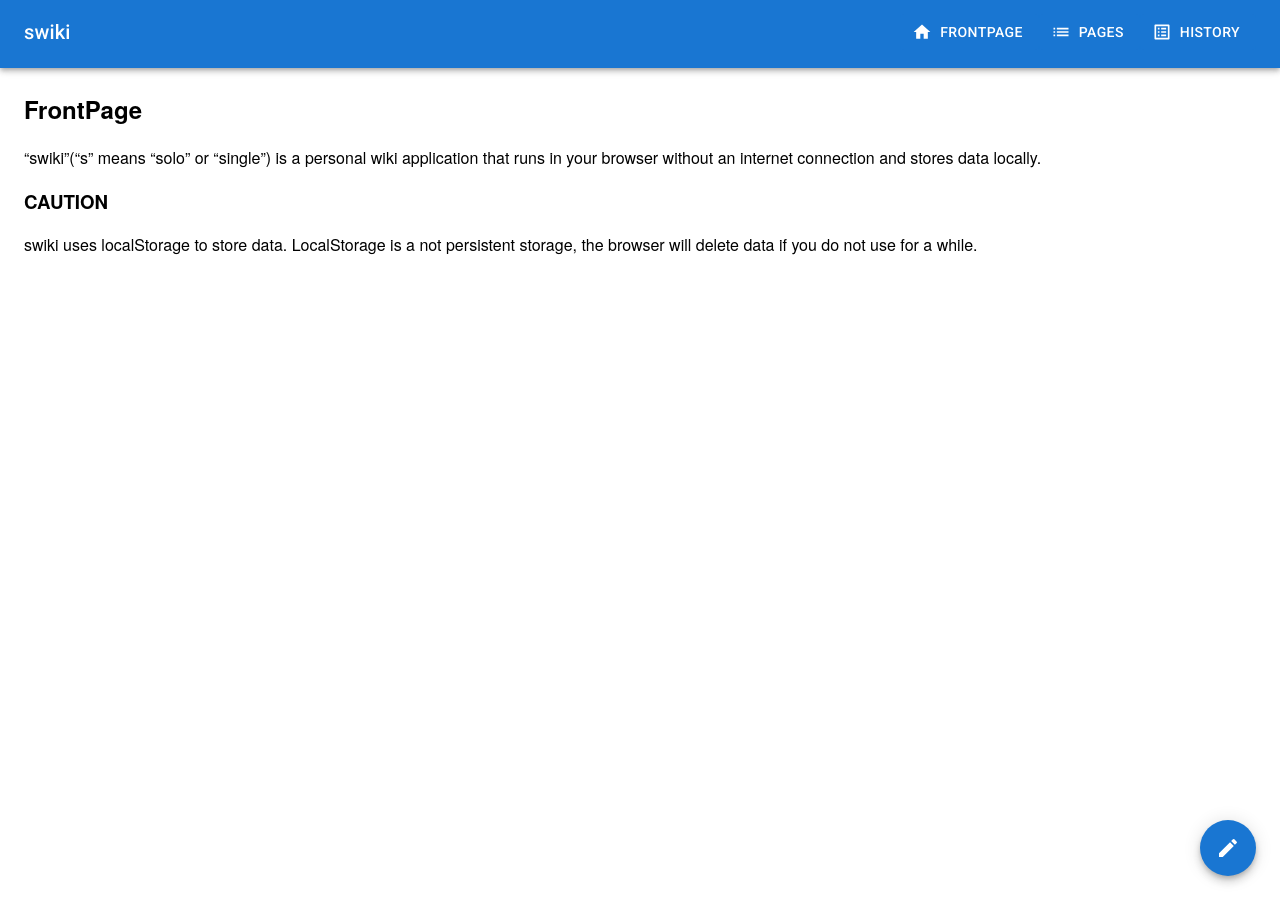
it: route › FrontPage › should move to FrontPage edit page when edit Fab pressed
The width and height of the screenshot is (1280, 900).
Click the button named "Edit".
click(1228, 848)  # box left=1200, top=820, right=1256, bottom=876
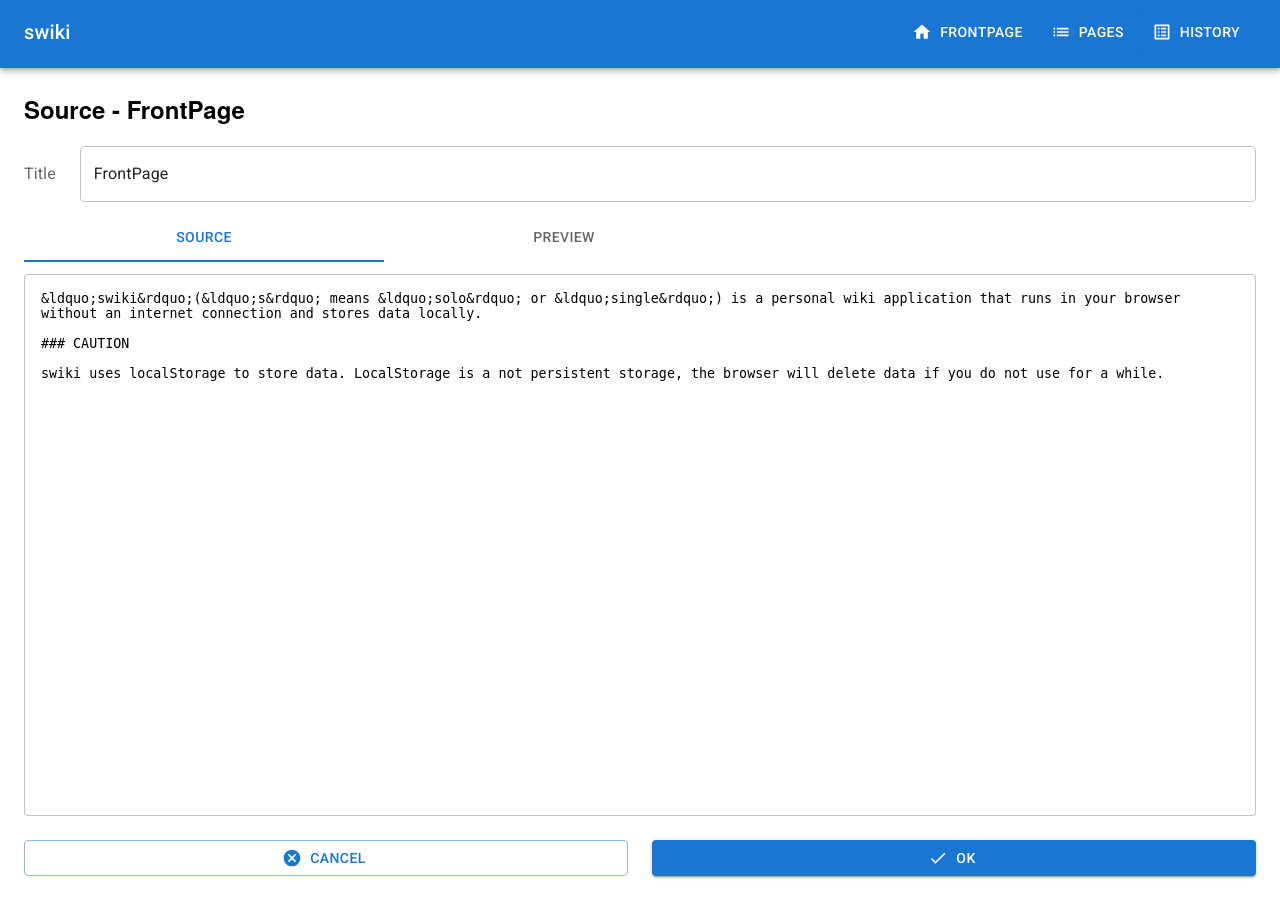
Now the heading "Source - FrontPage" is shown, box left=24, top=92, right=245, bottom=126
